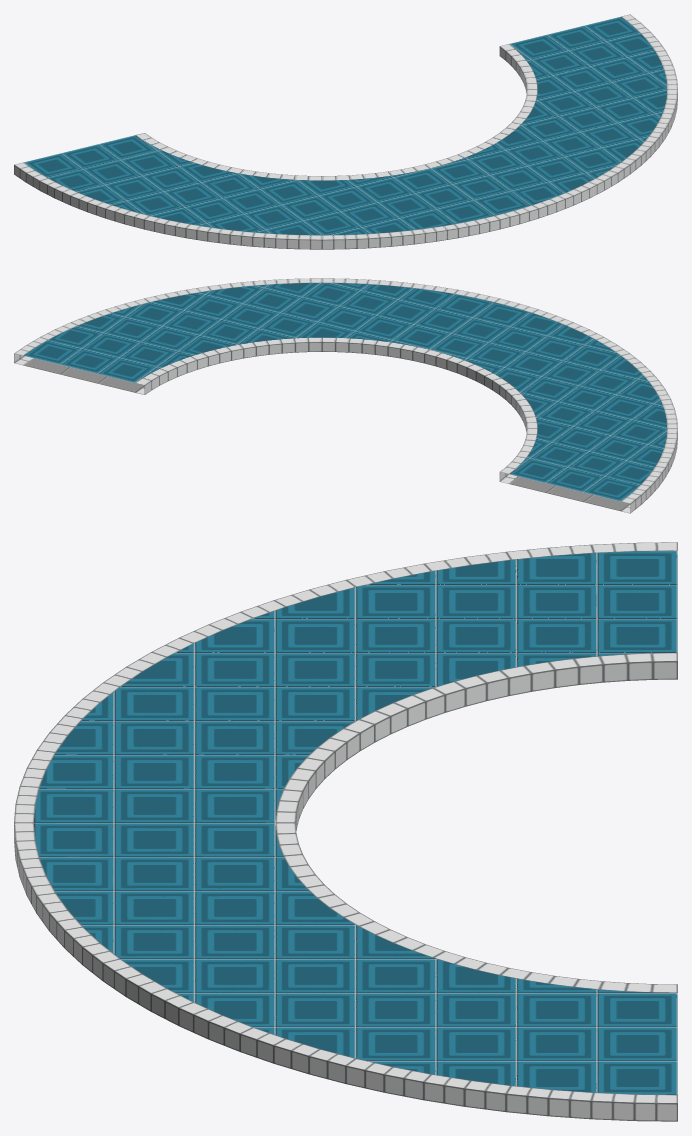
File: ThinIceCurve1.obj
The picture shows the model from 3 angles, top to bottom: view 1: azimuth 30°, elevation 25°; view 2: azimuth 150°, elevation 25°; view 3: azimuth 270°, elevation 25°; orthographic projection. The views are drawn at different scales.
Parts seen in each view (by area): view 1: ThinIceCurve1; view 2: ThinIceCurve1; view 3: ThinIceCurve1.
Part boxes in pixels (bbox=[...]): ThinIceCurve1: bbox=[14, 14, 677, 249]; ThinIceCurve1: bbox=[14, 278, 677, 513]; ThinIceCurve1: bbox=[14, 542, 677, 1121].
Bounding box in the file's own units: 33 × 0.5 × 16.5.
